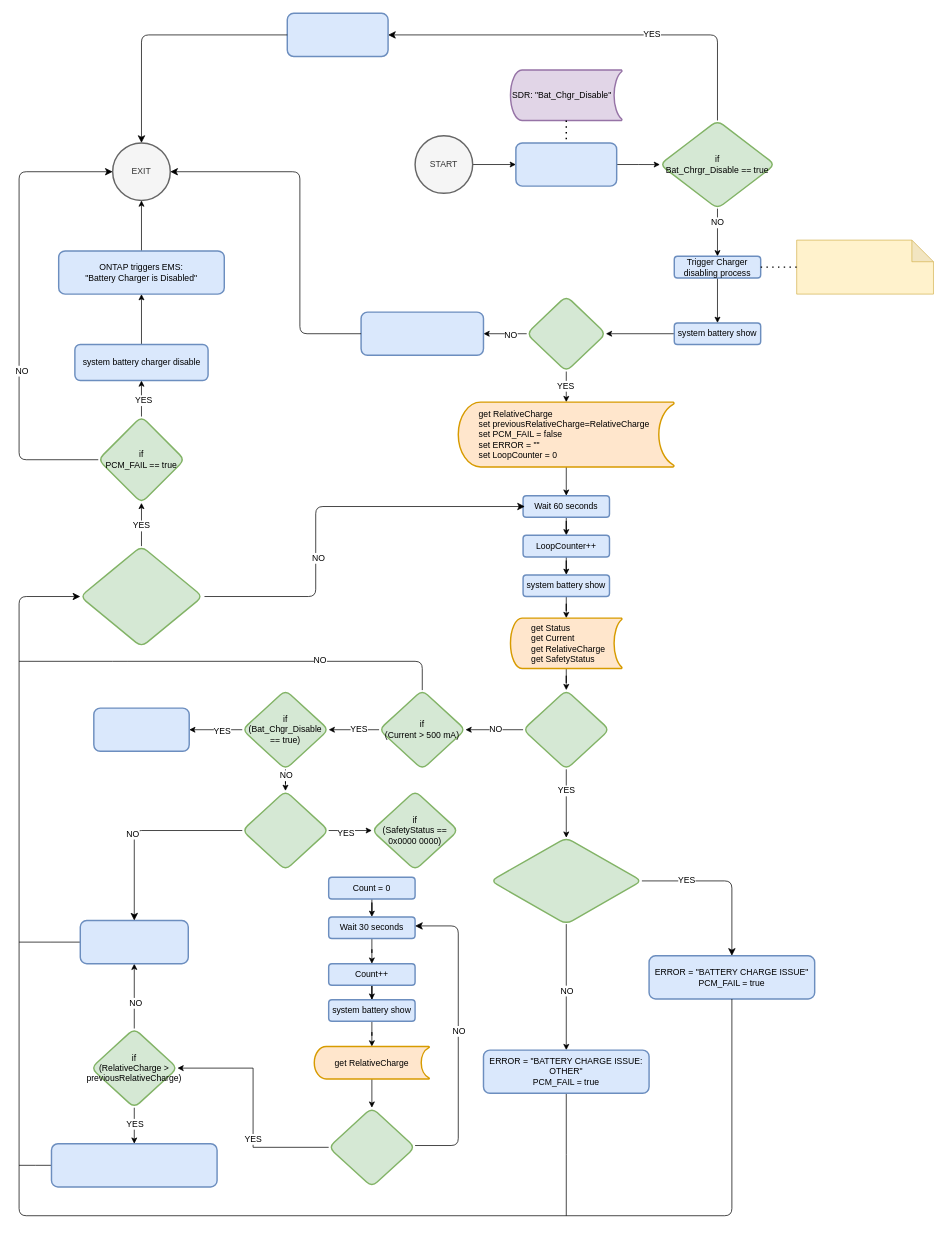
Some shapes in this 946 by 1236 pixel diagram are drawn without their labels. The shapes that lost their labels are listed below. From the top down, each one's box as (x1, y1, x2, y2) in pixels, then its label:
(286, 12, 388, 57): Shutdown ONTAP in 2 minutes
(515, 142, 617, 186): ONTAP EMS: "NO_CHARGE" OR "Battery Current High"
(796, 239, 933, 294): OEM Command: Configure Environ(0x36 0x35)
(360, 311, 484, 356): ERROR="Battery no present" PCM_FAIL = true
(526, 295, 606, 372): if battery present?
(79, 545, 203, 647): if (PCM_FAIL == false) OR (RelativeCharge == 75%) OR (LoopCounter == 10)
(93, 707, 190, 752): Shutdown node in 2 min to protect the pack
(522, 689, 610, 770): if (Current == 0 mA) AND (Status == Ready)
(241, 790, 329, 870): if (RelativeCharge > previousRelativeCharge)?
(490, 837, 642, 924): if (SafetyStatus == 0x0000 0008) OR (SafetyStatus == 0x0000 0000)
(79, 919, 189, 964): previousRelativeCharge = RelativeCharge
(50, 1143, 217, 1187): ERROR = "BATTERY CHARGE ISSUE: NOT CHARGING" PCM_FAIL = true
(328, 1107, 415, 1187): if (Count == 5) OR (RelativeCharge > previousRelativeCharge )
